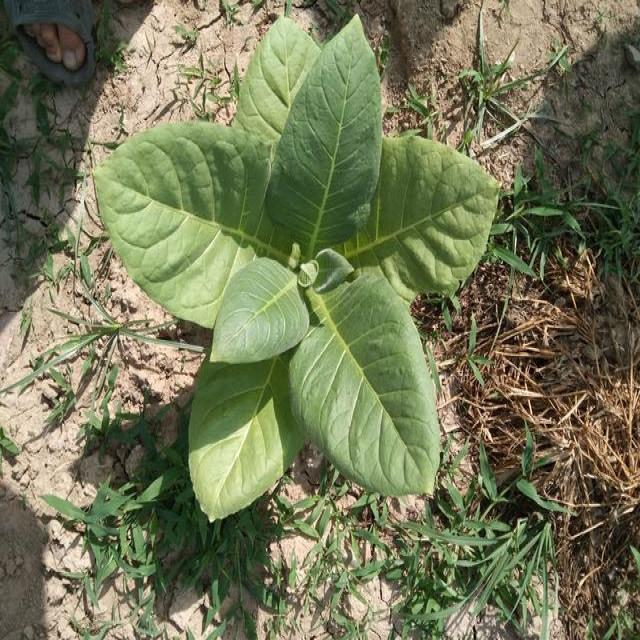crop: (95, 24, 503, 530)
